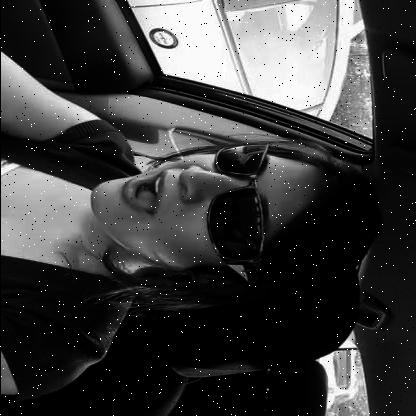no_seatbelt: (0, 114, 385, 307)
